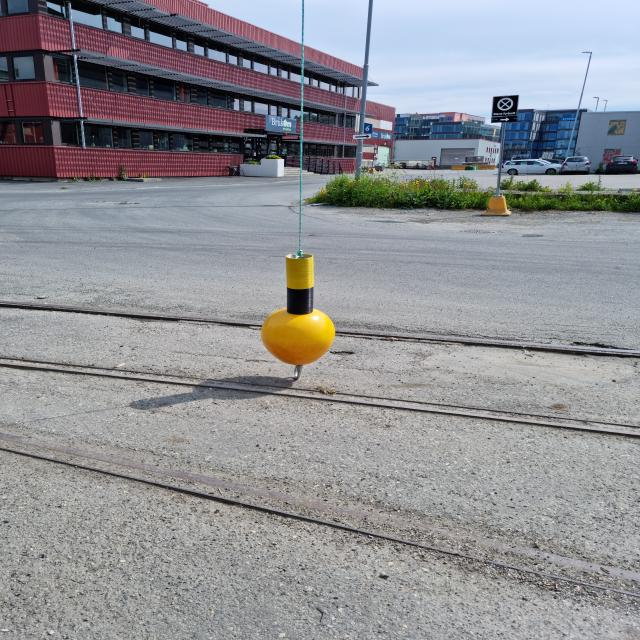west: (261, 252, 335, 367)
